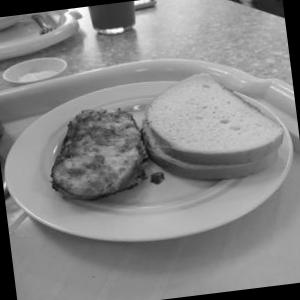bread: (140, 43, 295, 223)
cheese_sandwich: (37, 92, 162, 228)
